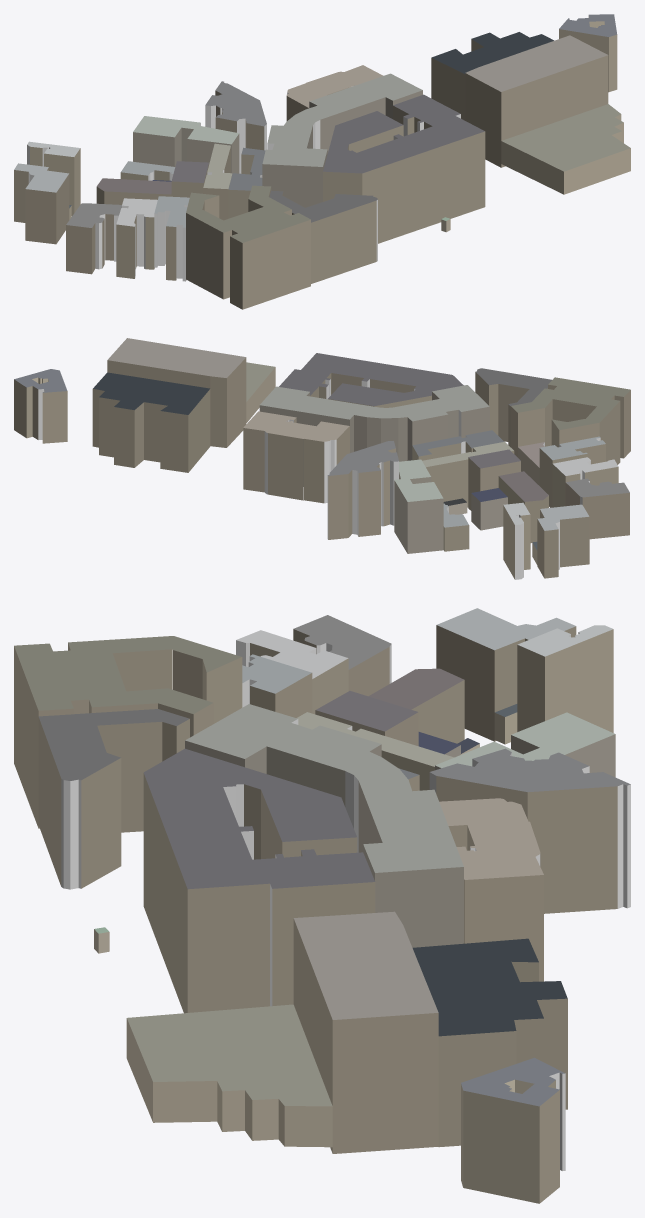
3 views of the same model, one above another, from view 1: azimuth 30°, elevation 25°; view 2: azimuth 150°, elevation 25°; view 3: azimuth 270°, elevation 25° (orthographic). The views are drawn at different scales.
Visible parts, largest first — view 1: tuile; view 2: tuile; view 3: tuile.
Part boxes in pixels (x1,y1,x2,y2): tuile: (14, 14, 630, 309); tuile: (14, 338, 630, 579); tuile: (14, 608, 630, 1203).
Bounding box in the file's own units: 273 × 35.85 × 136.
